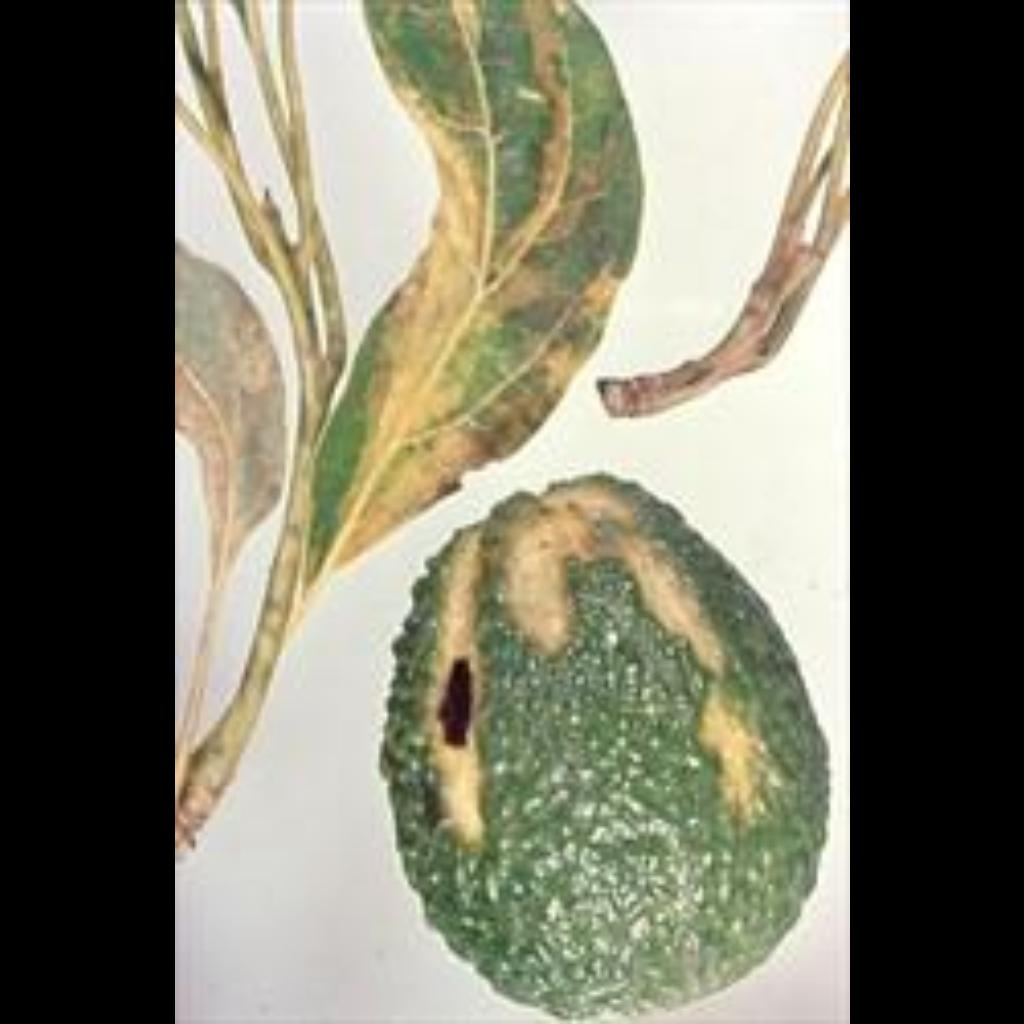cercospora_spot: (311, 465, 831, 997)
